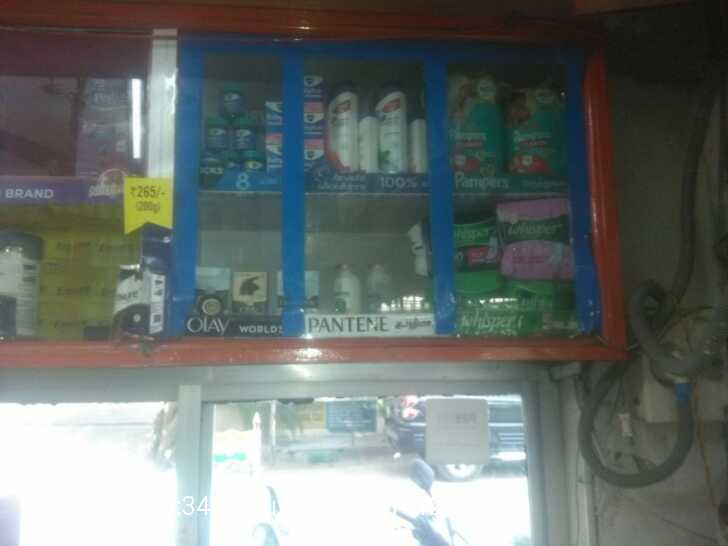vicks: (267, 73, 330, 168), (203, 78, 262, 172)
